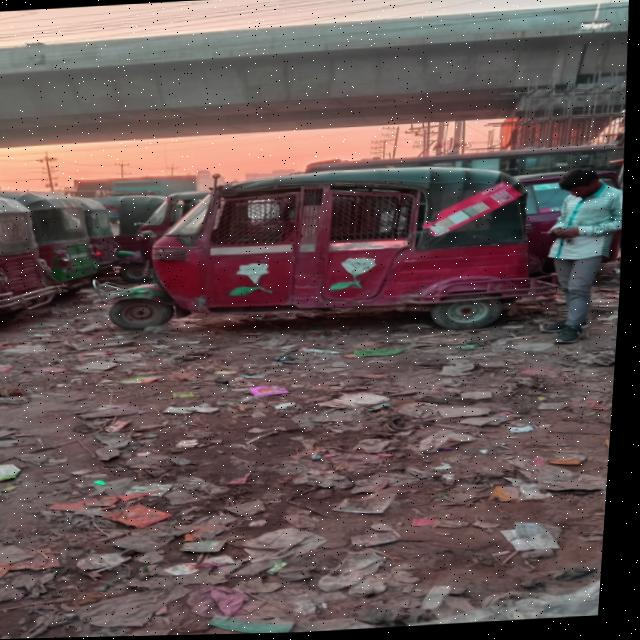cng: (130, 138, 562, 354)
